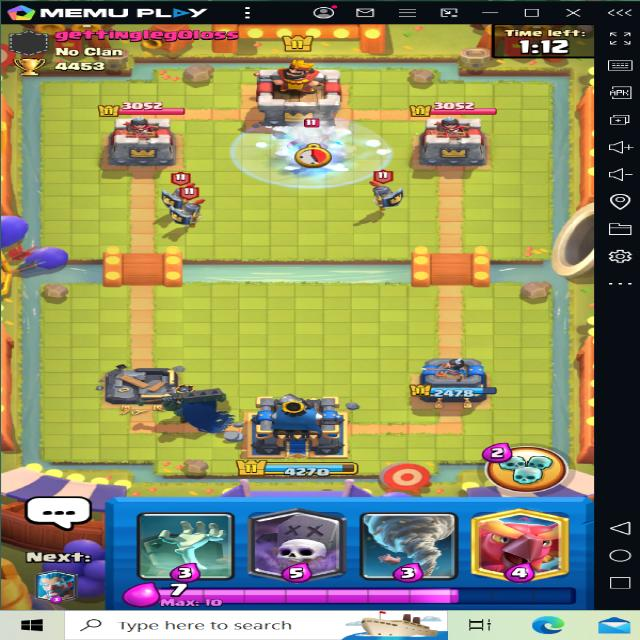guards: (366, 169, 409, 205), (170, 190, 210, 224), (160, 176, 196, 204)
ice-wizard: (286, 126, 342, 173)
